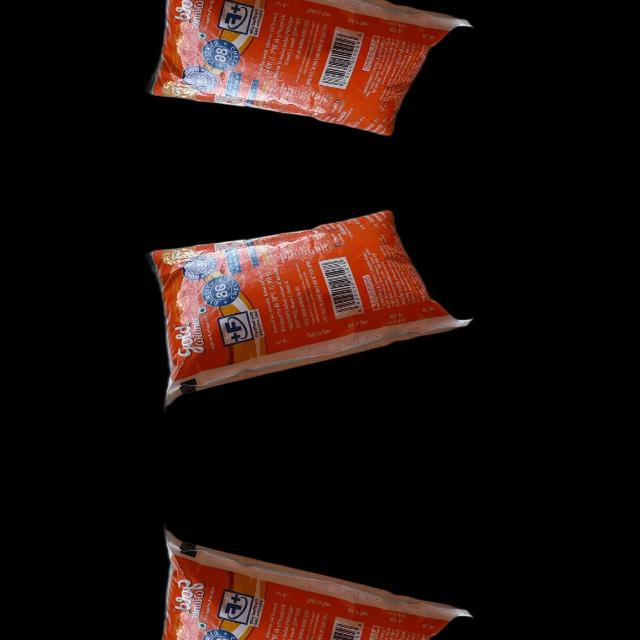Gold Oil: (144, 204, 466, 400), (144, 0, 466, 140), (144, 535, 466, 640)
